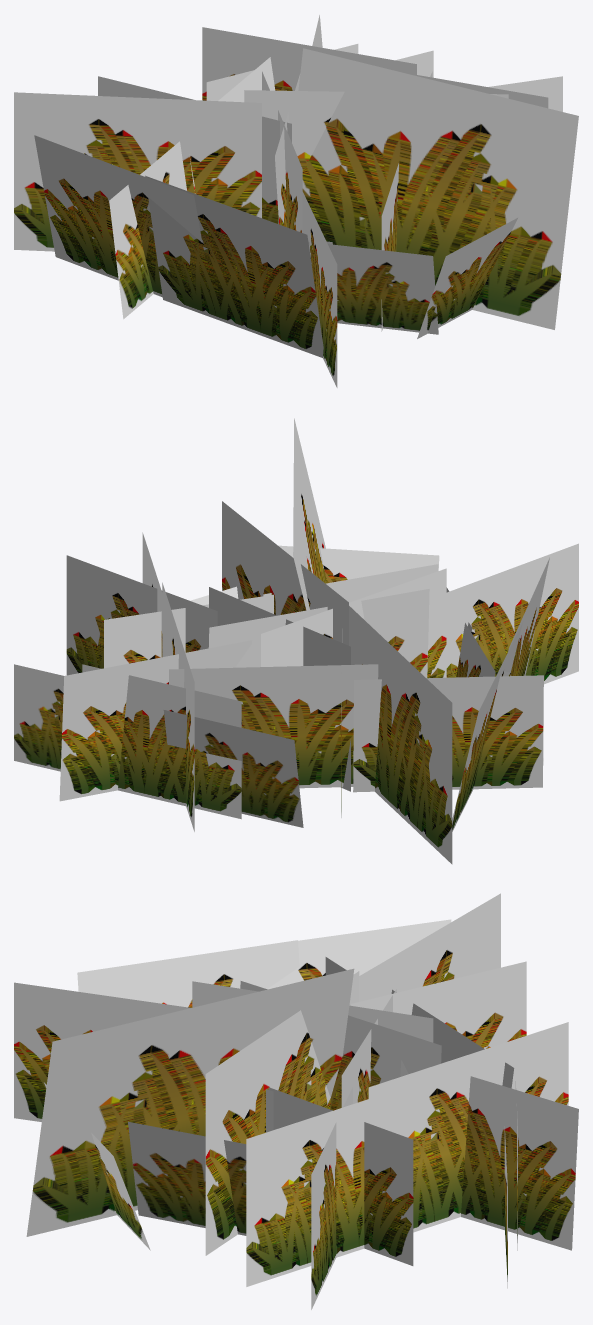
The model's file is high_grass_07.gltf.
3 views of the same model, one above another, from view 1: azimuth 30°, elevation 25°; view 2: azimuth 150°, elevation 25°; view 3: azimuth 270°, elevation 25° (orthographic). The views are drawn at different scales.
Visible parts, largest first — view 1: default; view 2: default; view 3: default.
Part boxes in pixels (left/top/right/bottom): default: left=14, top=15, right=578, bottom=387; default: left=14, top=418, right=578, bottom=864; default: left=14, top=893, right=578, bottom=1309.
Bounding box in the file's own units: 1.91 × 0.7728 × 1.84.
Materials: 1 (1 with a texture image).
